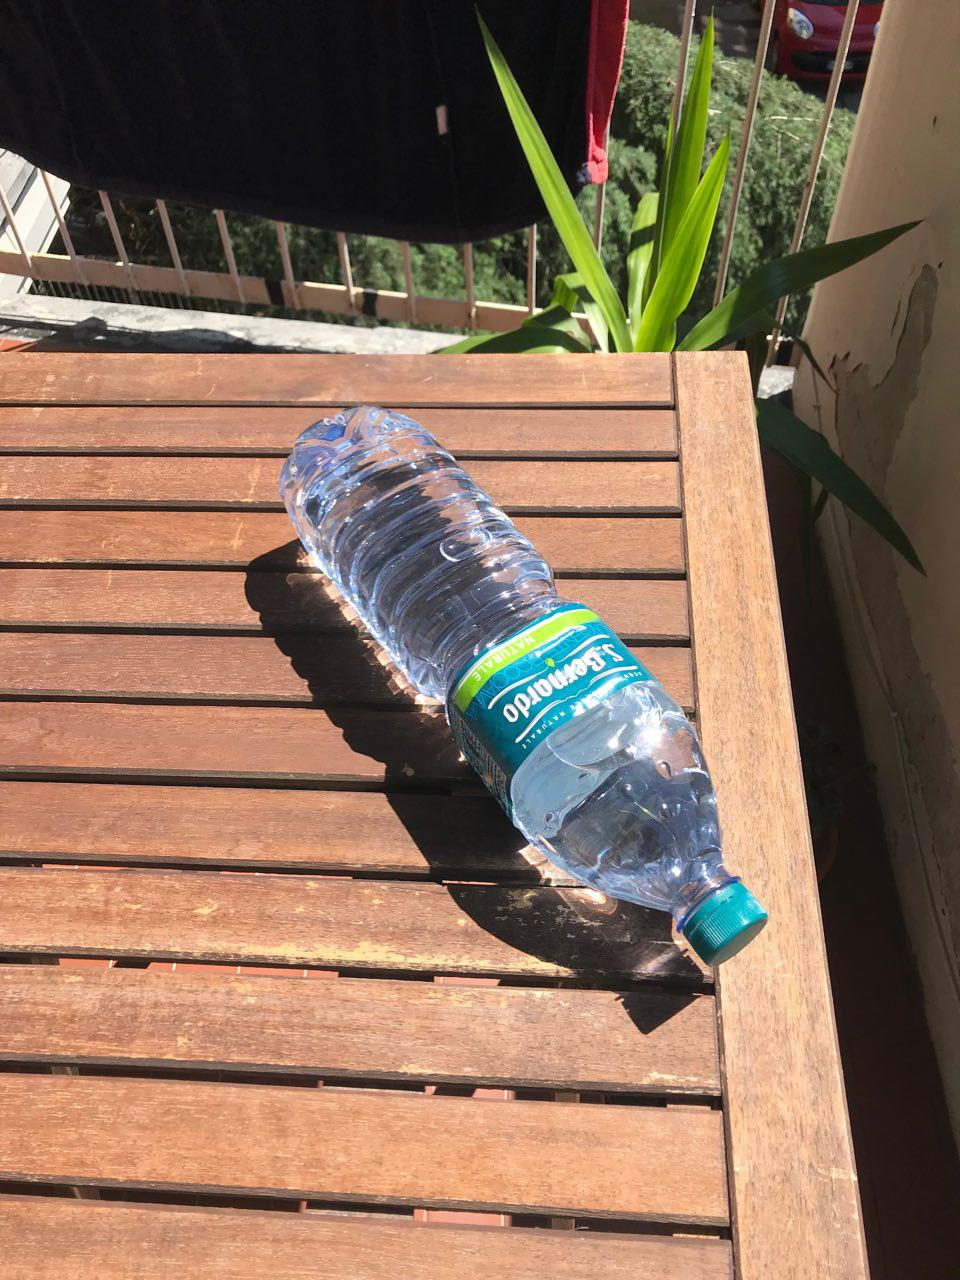san_bernardo: (276, 402, 769, 968)
